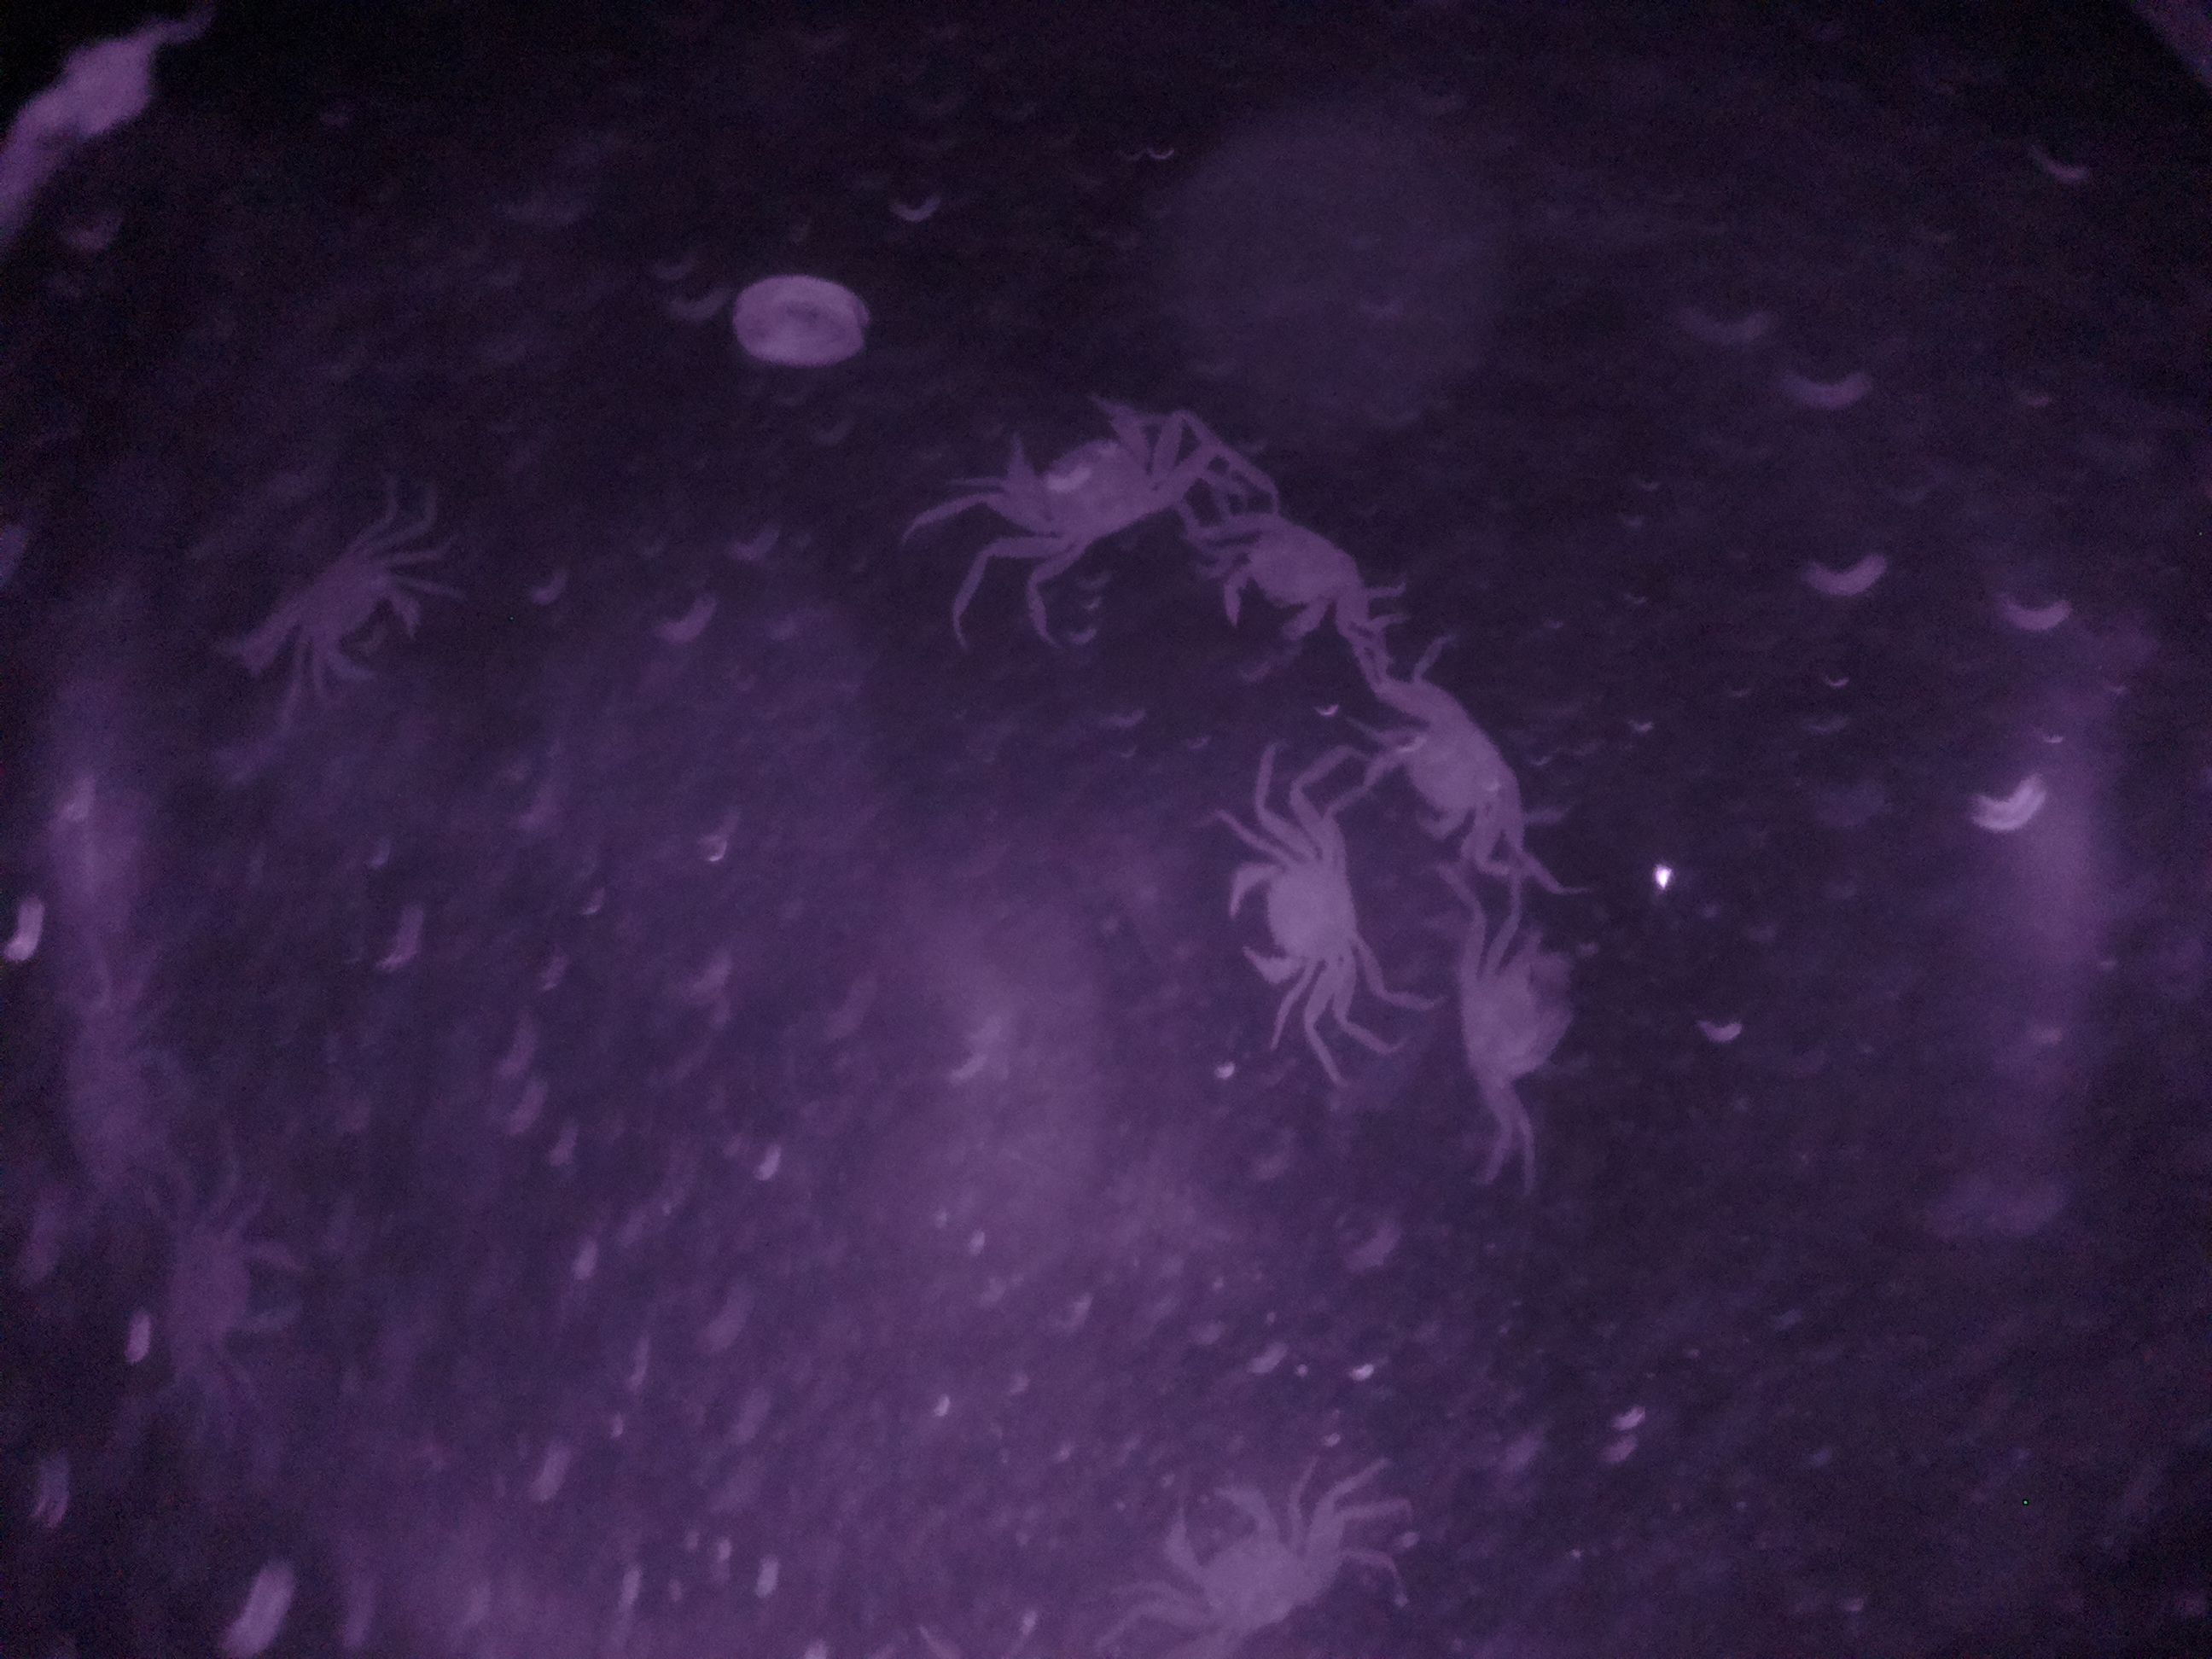Crab: (975, 375, 1181, 570), (1198, 800, 1378, 1016), (1136, 1464, 1345, 1649), (1193, 488, 1372, 645)
